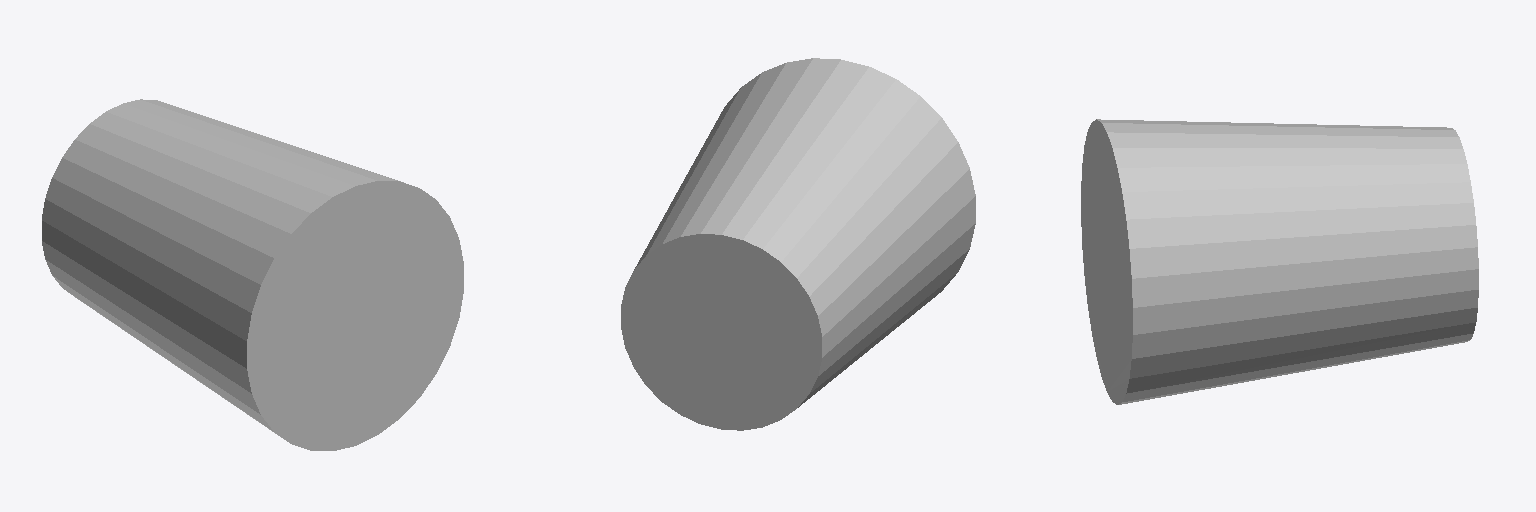
Rendered from PotardH_Cylinder.007.obj.
The picture shows the model from 3 angles: view 1: azimuth 30°, elevation 25°; view 2: azimuth 150°, elevation 25°; view 3: azimuth 270°, elevation 25°; orthographic projection.
Visible parts, largest first — view 1: PotardH_Cylinder.007; view 2: PotardH_Cylinder.007; view 3: PotardH_Cylinder.007.
Part boxes in pixels (x1,y1,x2,y2): PotardH_Cylinder.007: (42, 99, 463, 450); PotardH_Cylinder.007: (621, 58, 975, 430); PotardH_Cylinder.007: (1081, 119, 1478, 404).
Size of the model in its own units: 0.0433 by 0.04 by 0.0555.